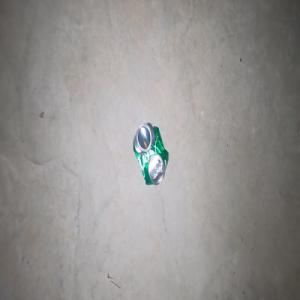SodaCan: (132, 121, 168, 185)
